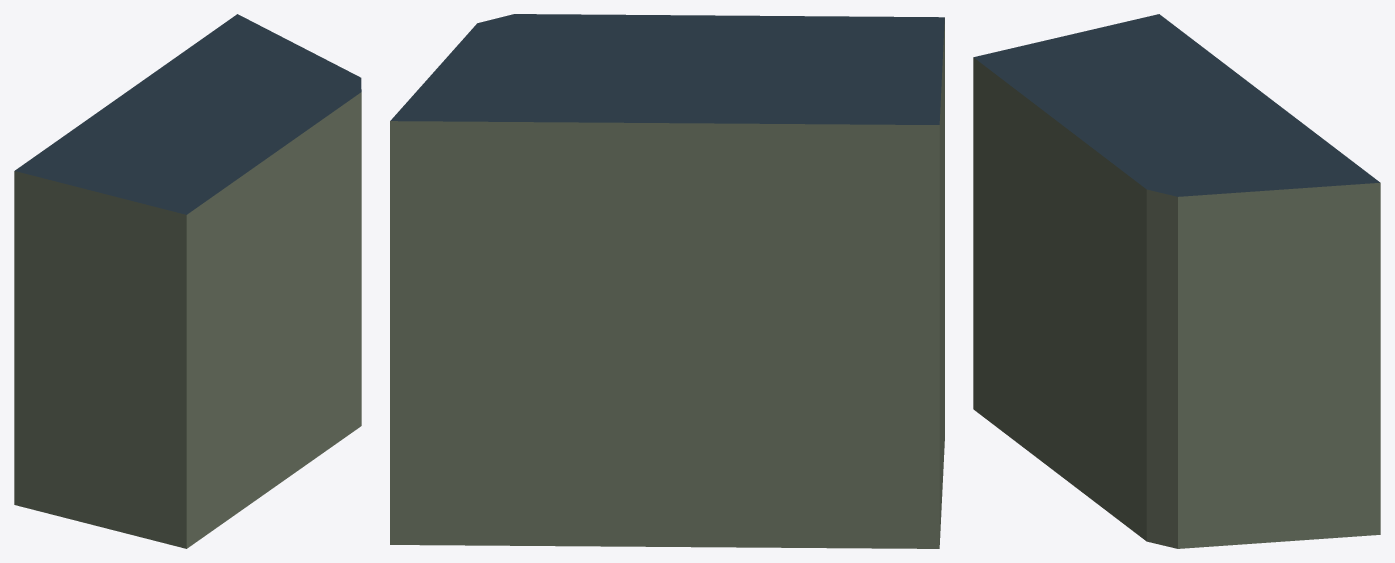
File: nyc-1015245-0.glb
3 views of the same model, side by side, from view 1: azimuth 30°, elevation 25°; view 2: azimuth 150°, elevation 25°; view 3: azimuth 270°, elevation 25° (orthographic). The views are drawn at different scales.
Parts seen in each view (by area): view 1: nyc-1015245-0; view 2: nyc-1015245-0; view 3: nyc-1015245-0.
Part boxes in pixels (x1=…): nyc-1015245-0: x1=14, y1=14, x2=361, y2=548; nyc-1015245-0: x1=390, y1=14, x2=944, y2=548; nyc-1015245-0: x1=973, y1=14, x2=1380, y2=548.
Bounding box in the file's own units: 24.44 × 21.94 × 23.
